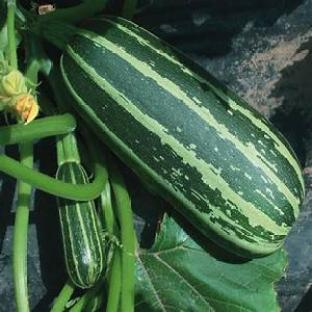Zucchini: (62, 17, 303, 256), (59, 198, 105, 288)
